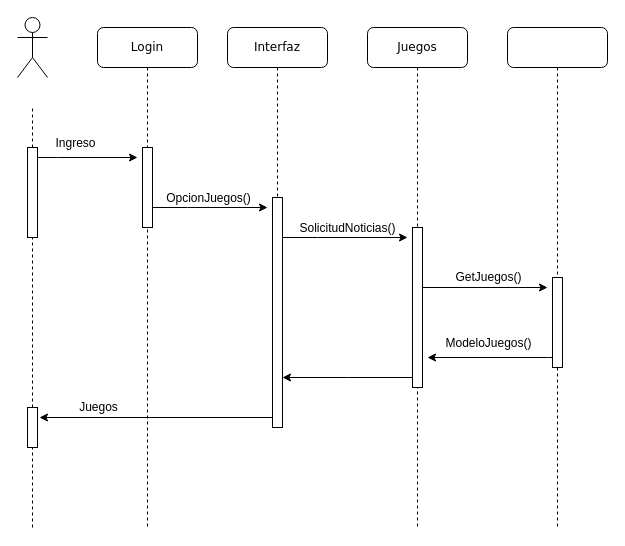
Image size: 625x546. Some labels were removed from this diagram. Each missing label, with the centre of its shape:
"Actor" belongs at point 32,47.
"DB" belongs at point 557,277.
